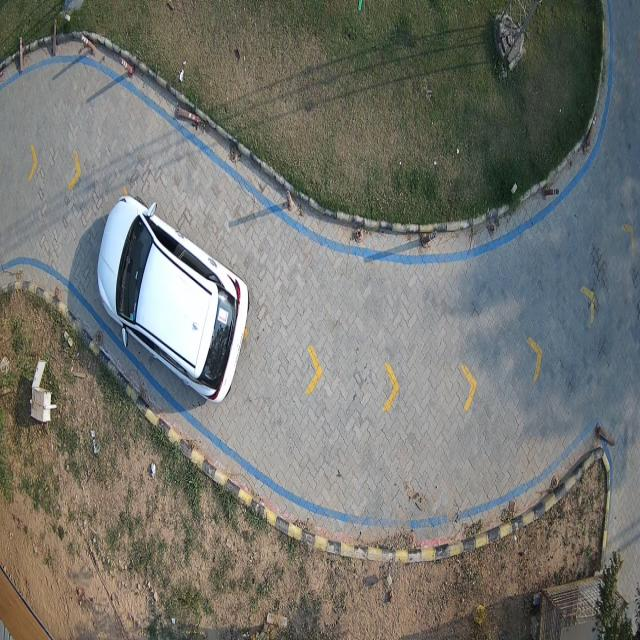car: (98, 196, 249, 399)
